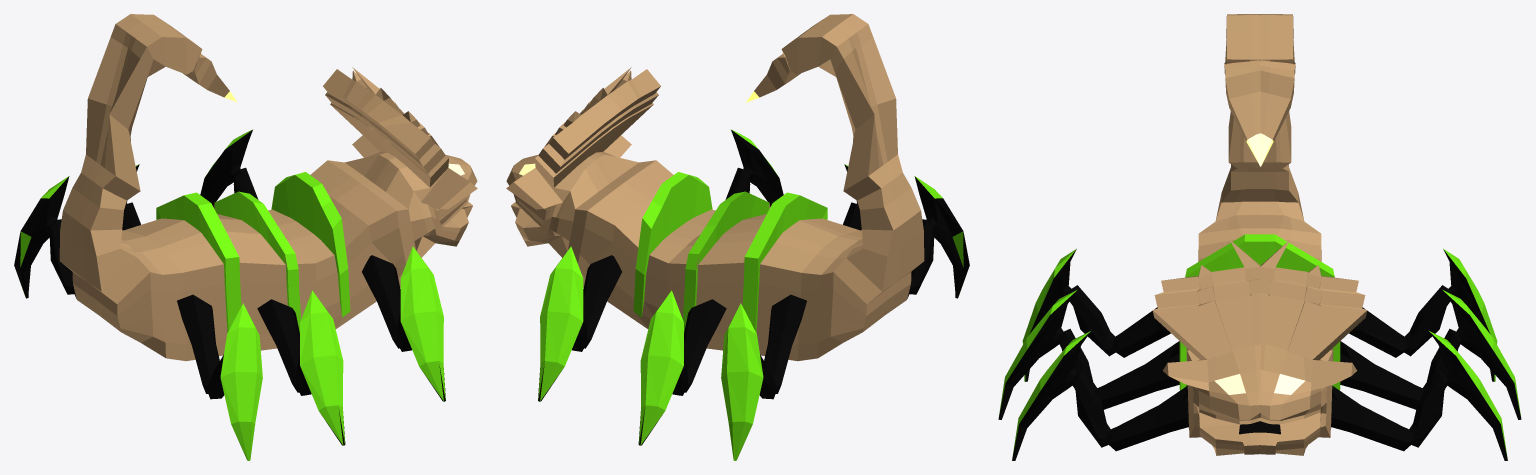
The model's file is Scorpion.fbx.
3 views of the same model, side by side, from view 1: azimuth 30°, elevation 25°; view 2: azimuth 150°, elevation 25°; view 3: azimuth 270°, elevation 25° (orthographic). The views are drawn at different scales.
Parts seen in each view (by area): view 1: Cube, Polygonal Metalon.001, Polygonal Metalon.002, Polygonal Metalon.004; view 2: Cube, Polygonal Metalon.001, Polygonal Metalon.002, Polygonal Metalon.004; view 3: Cube, Polygonal Metalon.002, Polygonal Metalon.004, Polygonal Metalon.001.
Part boxes in pixels (x1,y1,x2,y2): Cube: [59, 14, 477, 361]; Polygonal Metalon.001: [14, 176, 262, 460]; Polygonal Metalon.002: [200, 129, 445, 401]; Polygonal Metalon.004: [122, 164, 345, 445]; Cube: [506, 14, 924, 361]; Polygonal Metalon.001: [721, 176, 969, 460]; Polygonal Metalon.002: [538, 129, 783, 401]; Polygonal Metalon.004: [638, 164, 861, 445]; Cube: [1152, 14, 1367, 455]; Polygonal Metalon.002: [1012, 330, 1507, 460]; Polygonal Metalon.004: [998, 289, 1521, 419]; Polygonal Metalon.001: [1022, 249, 1497, 381].
Size of the model in its own units: 349 by 300 by 383.
